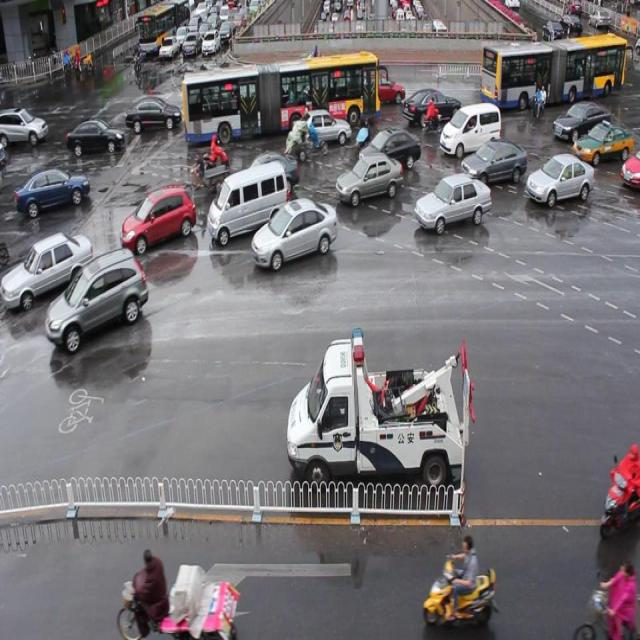bus: (287, 325, 472, 492)
car: (45, 251, 148, 351), (1, 231, 92, 311), (250, 196, 336, 270), (122, 188, 197, 252), (416, 173, 490, 230), (15, 167, 90, 213), (526, 154, 593, 204), (334, 154, 402, 202), (440, 104, 501, 157), (357, 129, 421, 171), (571, 122, 632, 162), (462, 143, 526, 181), (238, 153, 299, 192), (403, 88, 462, 126), (298, 106, 351, 148), (552, 104, 612, 140), (66, 120, 125, 154), (124, 97, 181, 132), (356, 69, 405, 105), (620, 148, 640, 186)
truck: (207, 165, 287, 242)
van: (185, 56, 379, 144), (482, 36, 625, 104)
